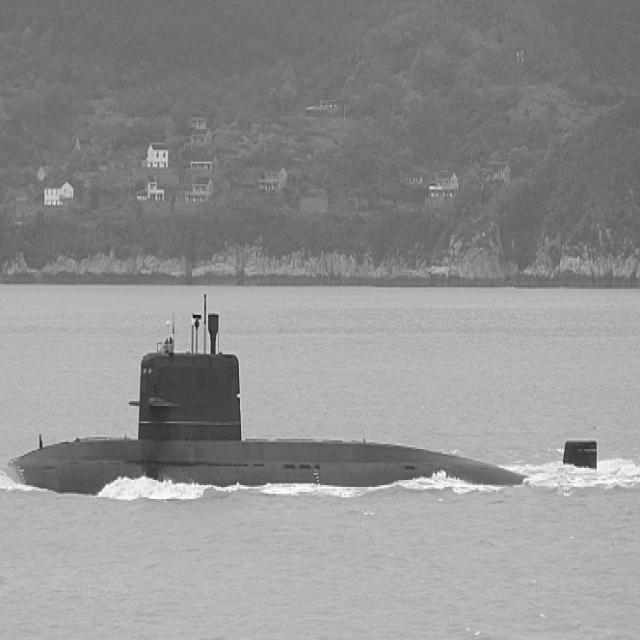submarine: (8, 304, 597, 498)
